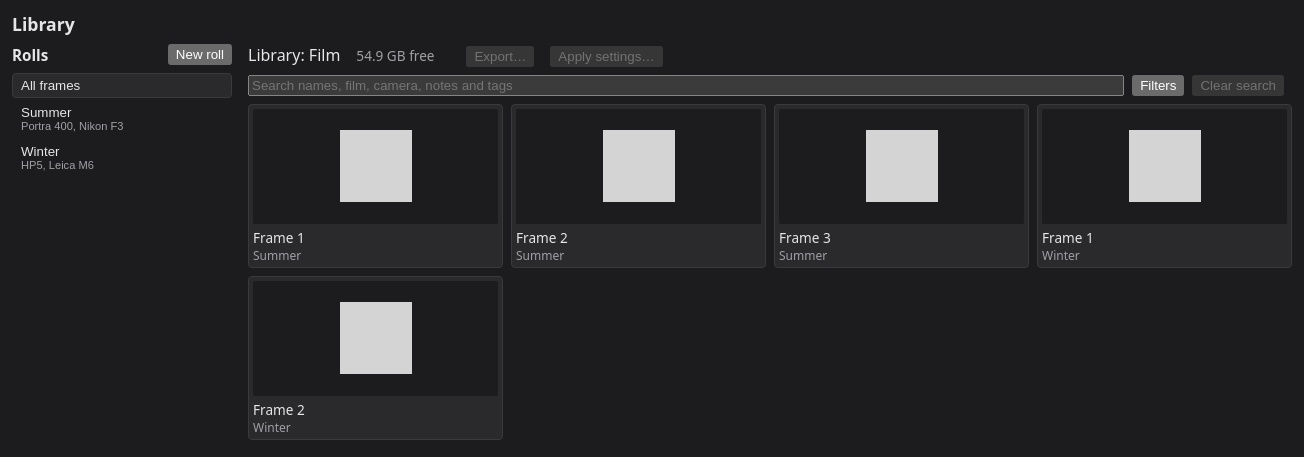
search, filters and tags in the Library view › the search box › says when nothing matches, and clears back to the roll
Step 1. Type "zzz" into the search field → (686, 86), box x1=248 y1=75 x2=1124 y2=96
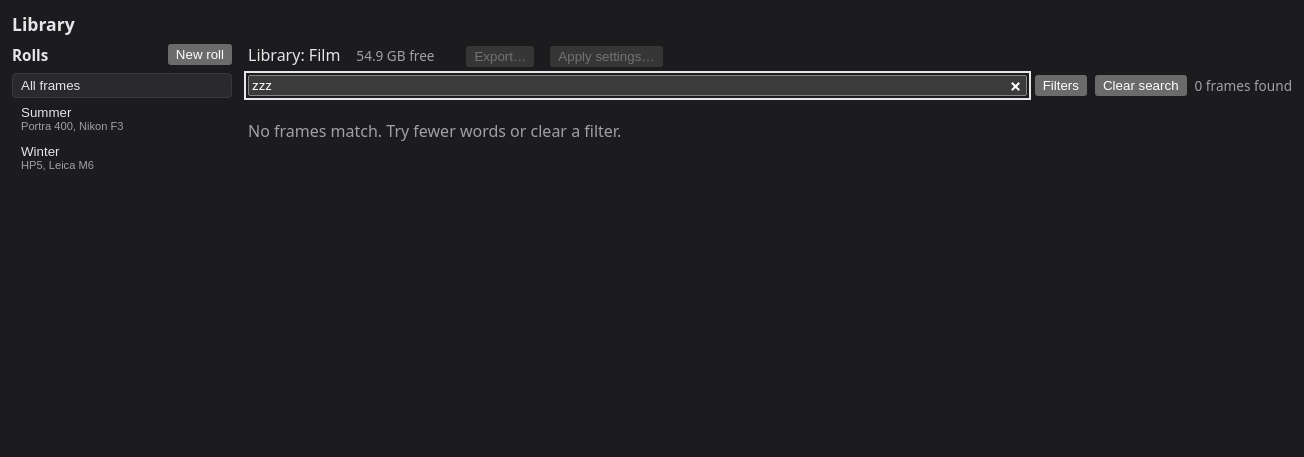
Check: the text "No frames match. Try fewer words or clear a filter." is shown, box x1=248 y1=120 x2=621 y2=142
Step 2. Click the button "Clear search" → (1141, 86), box x1=1095 y1=75 x2=1187 y2=96
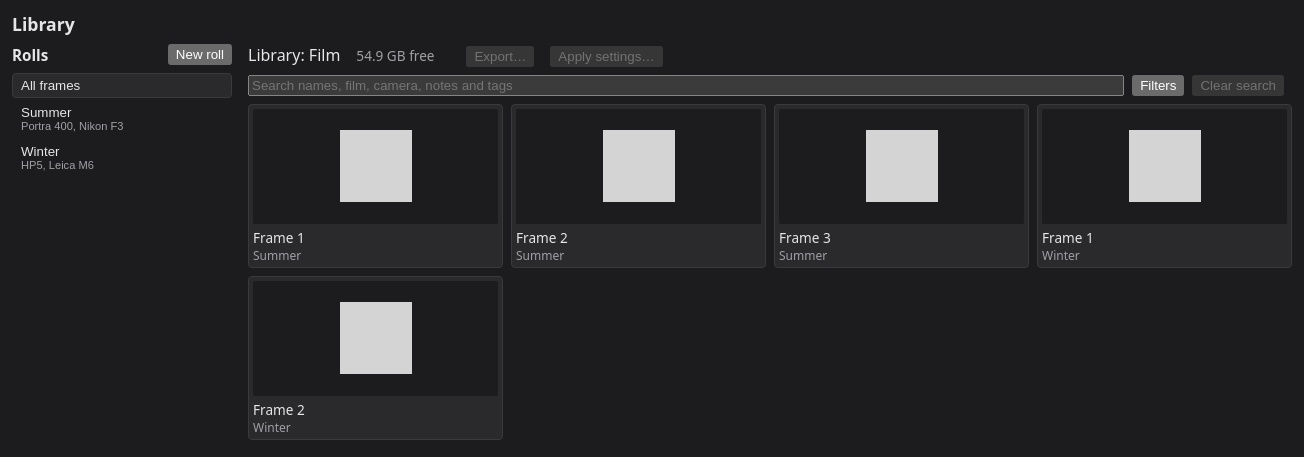
Check: the number of cells is 5, box x1=248 y1=104 x2=503 y2=268; x1=511 y1=104 x2=766 y2=268; x1=774 y1=104 x2=1029 y2=268; x1=1037 y1=104 x2=1292 y2=268; x1=248 y1=276 x2=503 y2=440
Check: the search field is empty, box x1=248 y1=75 x2=1124 y2=96
Check: the button "Clear search" is disabled, box x1=1192 y1=75 x2=1284 y2=96
